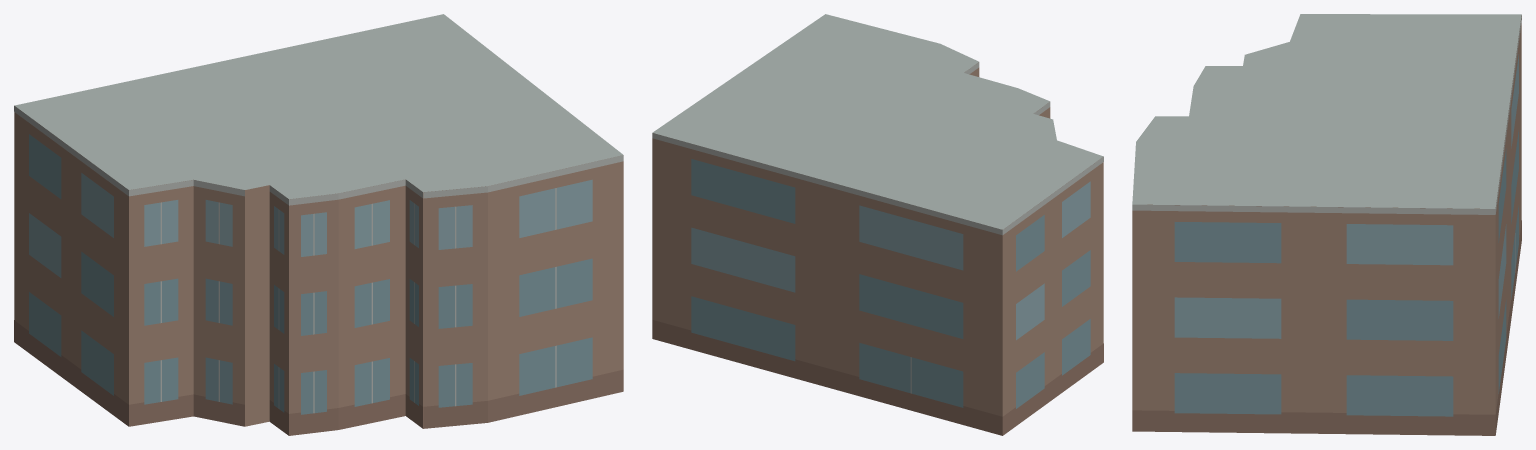
The model's file is survey-upis-32479460.glb.
3 views of the same model, side by side, from view 1: azimuth 30°, elevation 25°; view 2: azimuth 150°, elevation 25°; view 3: azimuth 270°, elevation 25° (orthographic). The views are drawn at different scales.
Visible parts, largest first — view 1: survey-upis-32479460.tmp; view 2: survey-upis-32479460.tmp; view 3: survey-upis-32479460.tmp.
Boxes of the visible parts, box(x1,y1,x2,y2) form: survey-upis-32479460.tmp: box(14, 14, 623, 435); survey-upis-32479460.tmp: box(652, 14, 1103, 435); survey-upis-32479460.tmp: box(1132, 14, 1521, 435).
Size of the model in its own units: 16.87 by 9.15 by 14.24.
